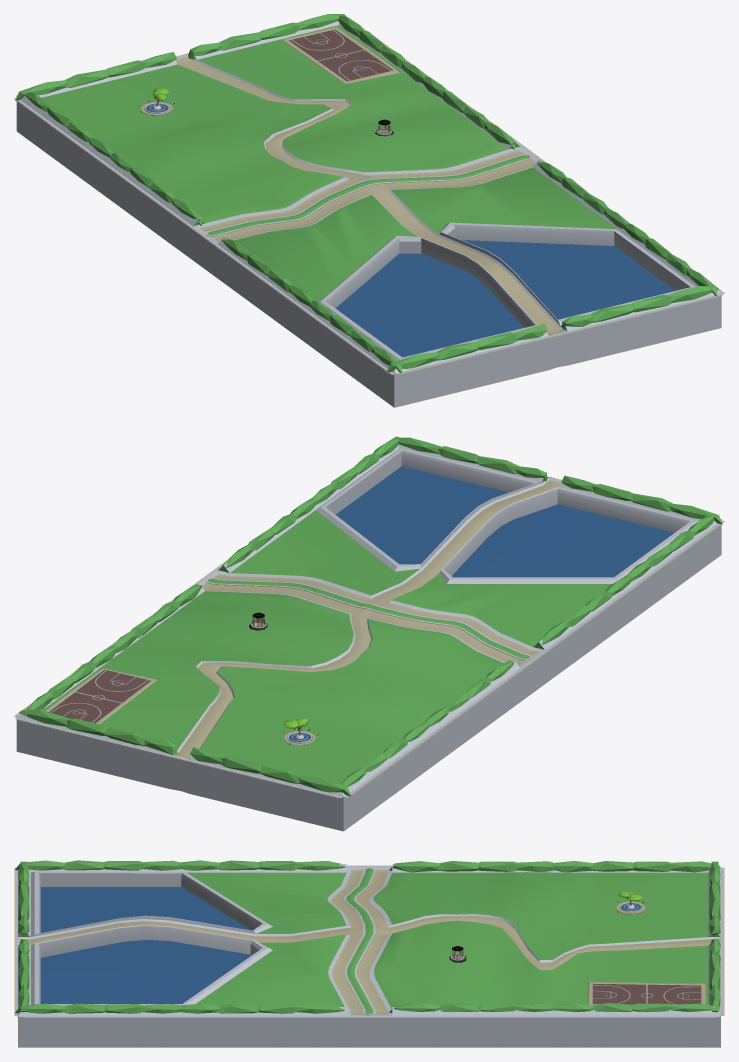
The model's file is buildings_and_cars.fbx.
3 views of the same model, one above another, from view 1: azimuth 30°, elevation 25°; view 2: azimuth 150°, elevation 25°; view 3: azimuth 270°, elevation 25° (orthographic). The views are drawn at different scales.
Parts seen in each view (by area): view 1: bigPark; view 2: bigPark; view 3: bigPark.
Part boxes in pixels (left/top/right/bottom): bigPark: left=14, top=14, right=724, bottom=407; bigPark: left=14, top=436, right=724, bottom=831; bigPark: left=14, top=860, right=724, bottom=1047.
Bounding box in the file's own units: 6155 × 1050 × 12135.
